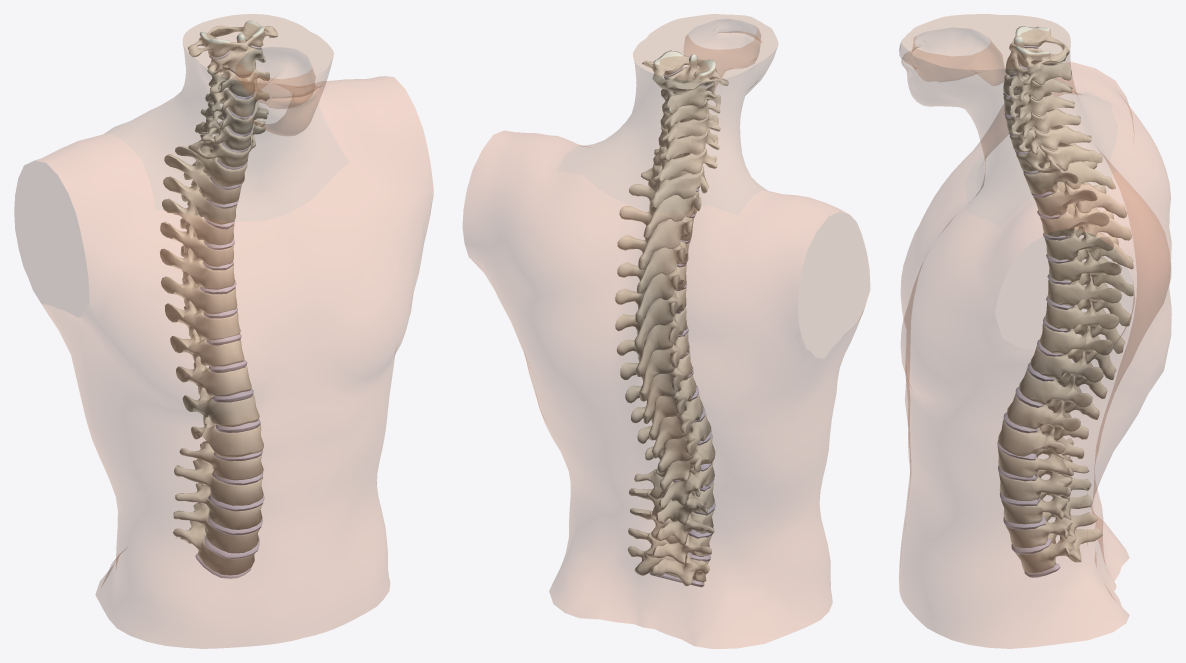
The model's file is Spine_full.glb.
The picture shows the model from 3 angles, left to right: view 1: azimuth 30°, elevation 25°; view 2: azimuth 150°, elevation 25°; view 3: azimuth 270°, elevation 25°; orthographic projection. The views are drawn at different scales.
Parts seen in each view (by area): view 1: CC_Base_Body, Backbone; view 2: CC_Base_Body, Backbone; view 3: CC_Base_Body, Backbone.
Boxes of the visible parts, x1,y1,x2,y2 form: CC_Base_Body: [14, 14, 433, 648]; Backbone: [159, 20, 278, 578]; CC_Base_Body: [463, 14, 870, 648]; Backbone: [615, 50, 728, 587]; CC_Base_Body: [899, 14, 1171, 648]; Backbone: [997, 26, 1133, 577].
Bounding box in the file's own units: 0.3999 × 0.614 × 0.2763.
Materials: 5 (4 with a texture image).
